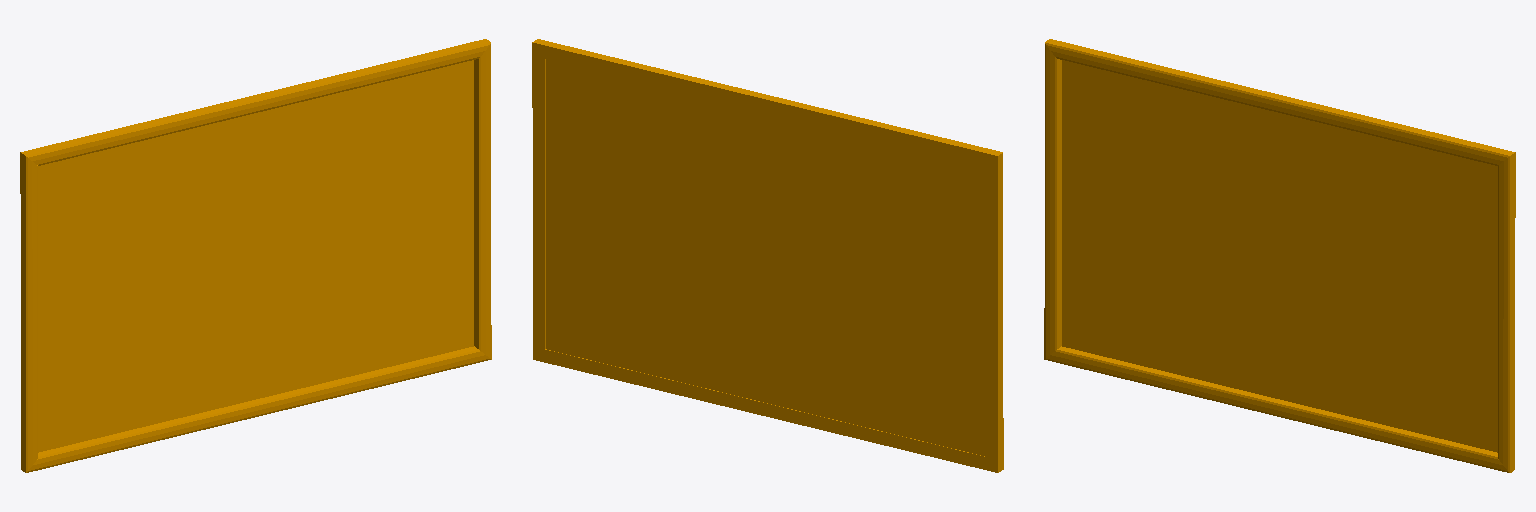
robot.urdf — none:
<robot name="none">
       <link name="none">
           <visual>
               <origin rpy="1.57 0 0" xyz="0 0 0" />
               <geometry>
                   <mesh filename="YosemiteFrame.obj" />
               </geometry>
           </visual>
          <collision>
              <geometry>
                  <box size="1.000000 0.650898 0.021737" />
              </geometry>
          </collision>

          <inertial>
            <mass value="0.0" />
            <inertia ixx="0.0" ixy="0.0" ixz="0.0" iyy="0.0" iyz="0.0" izz="0.0" />
          </inertial>
      </link>
  </robot>

--- Render facts (derived) ---
The picture shows the robot from 3 angles, left to right: view 1: azimuth 30°, elevation 25°; view 2: azimuth 150°, elevation 25°; view 3: azimuth 330°, elevation 25°; orthographic projection.
Robot: none — 1 links, 0 joints (none); root link none; default pose: every joint at zero.
Links seen in each view (by area): view 1: none; view 2: none; view 3: none.
Boxes of the visible links, x1=… form: none: x1=20, y1=39, x2=491, y2=472; none: x1=532, y1=39, x2=1003, y2=472; none: x1=1044, y1=39, x2=1515, y2=472.
Bounding box of the posed robot: 1 × 0.0222 × 0.6509 m (x, y, z).
1 mesh visuals loaded from 1 distinct referenced files (1 OBJ).